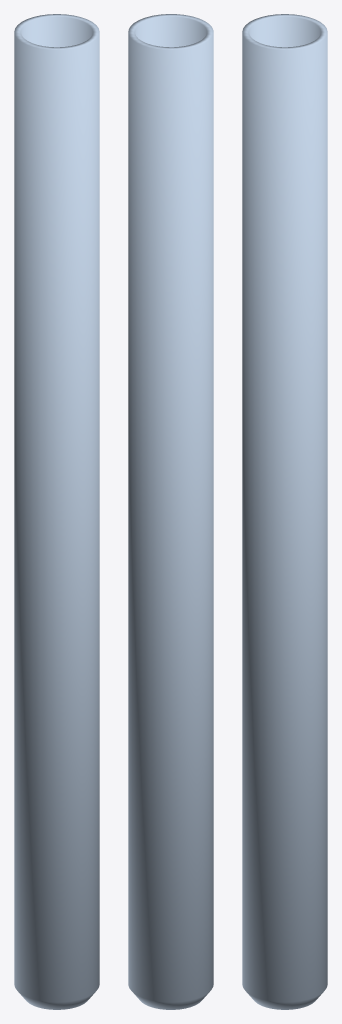
3 renders of one model, left to right at view 1: azimuth 90°, elevation 25°; view 2: azimuth 150°, elevation 25°; view 3: azimuth 270°, elevation 25°, orthographic.
Parts seen in each view (by area): view 1: Circle.001; view 2: Circle.001; view 3: Circle.001.
Part boxes in pixels (<box>): Circle.001: <box>14,14,99,1009</box>; Circle.001: <box>128,14,213,1009</box>; Circle.001: <box>242,14,327,1009</box>.
Size of the model in its own units: 4.48 by 56.06 by 4.48.
